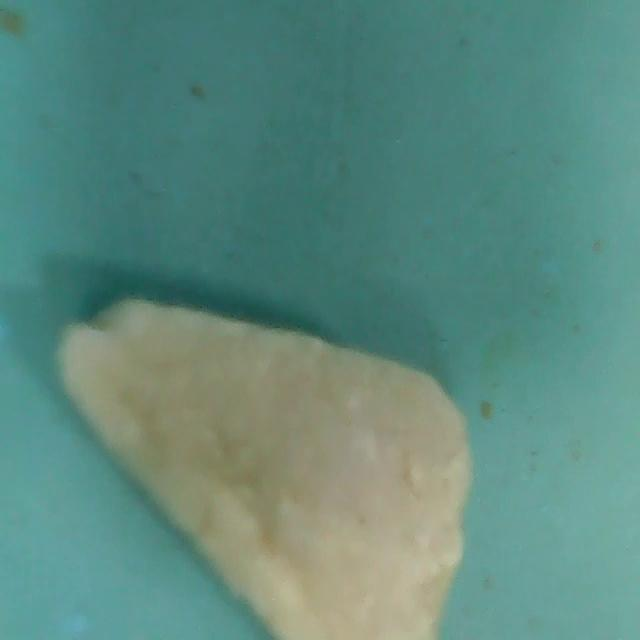rock: (57, 293, 480, 640)
